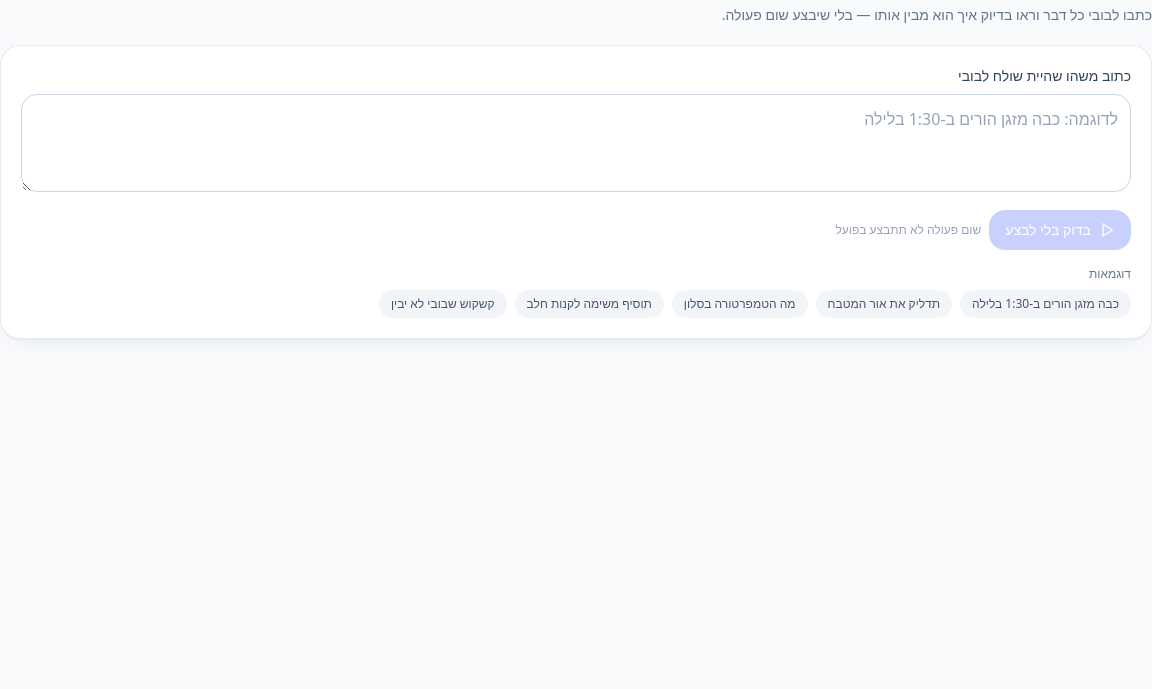
it: TestCenterPage › surfaces an invalid schedule as a failed pipeline stage
Step 1. Type "כבה ב-99:99" into the text box labelled "כתוב משהו שהיית שולח לבובי" → (576, 143), box [21,94,1131,192]
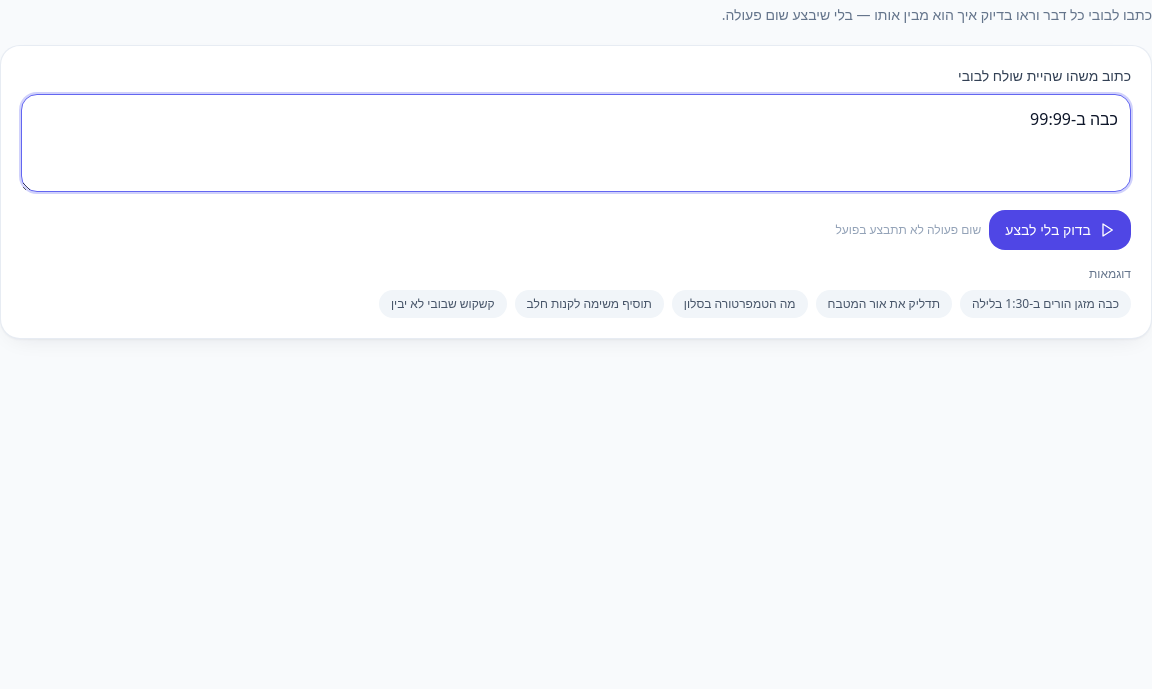
Step 2. Click the button "בדוק בלי לבצע" → (1060, 230), box [989,210,1131,250]
(page scrolled)
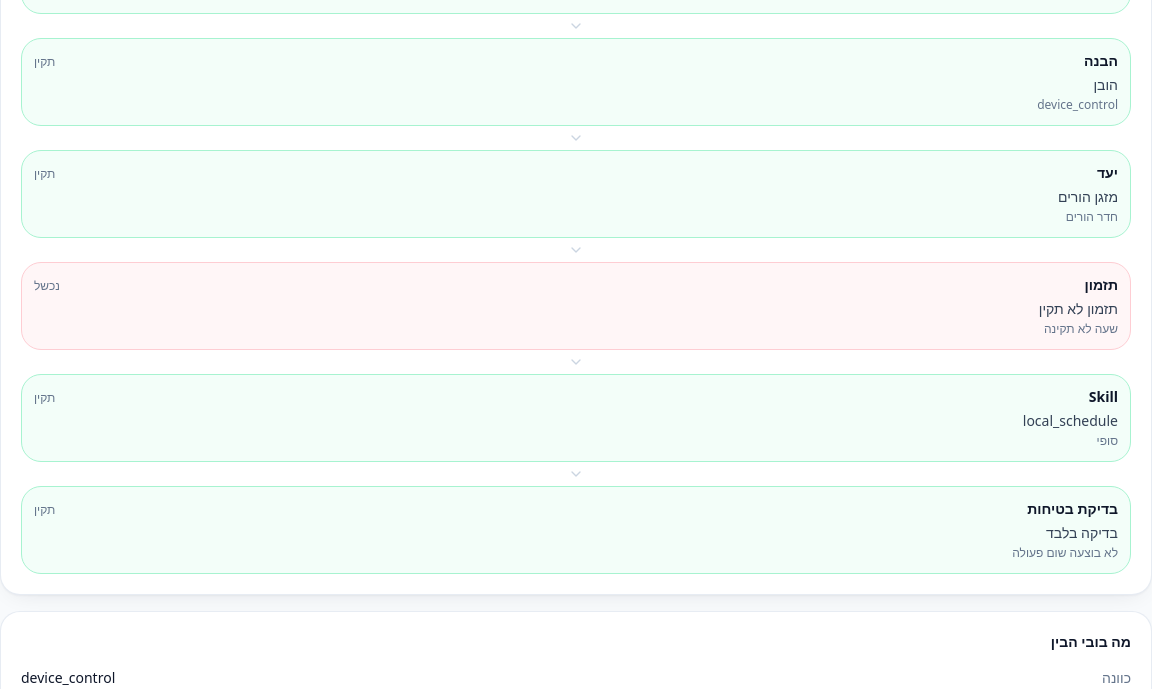
Check: the text "תזמון לא תקין" is shown, box [1039,299,1118,318]
Check: the text "שעה לא תקינה" is shown, box [1044,320,1118,337]
